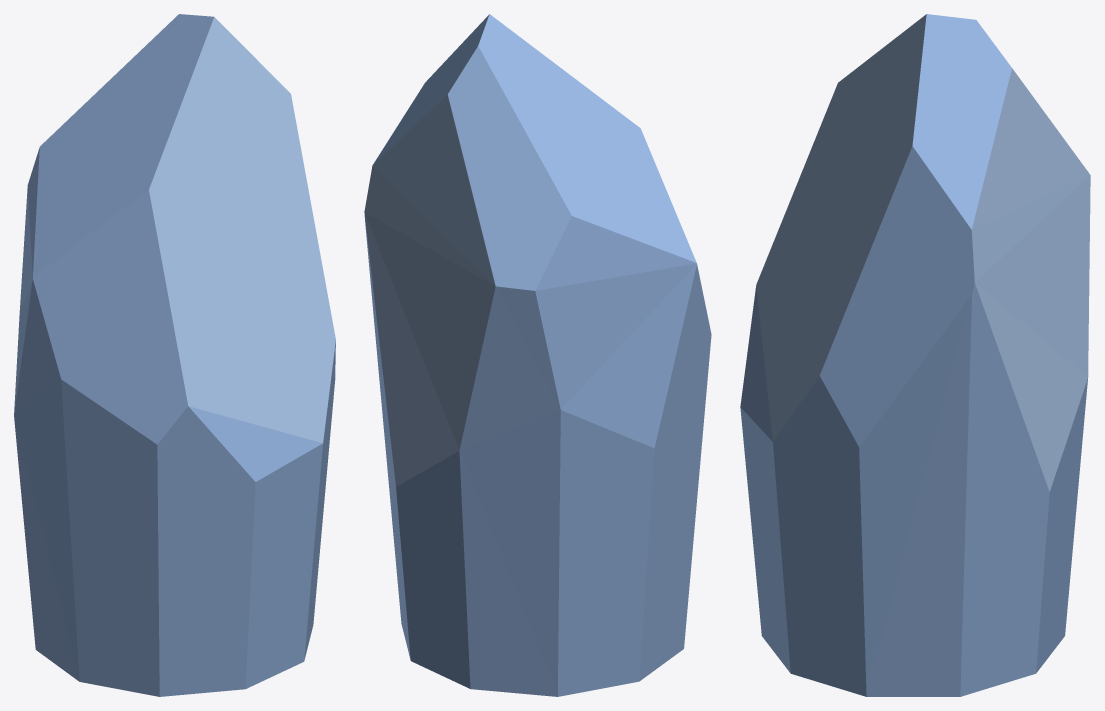
The model's file is crystal_10.fbx.
3 renders of one model, left to right at view 1: azimuth 30°, elevation 25°; view 2: azimuth 150°, elevation 25°; view 3: azimuth 270°, elevation 25°, orthographic. The views are drawn at different scales.
Visible parts, largest first — view 1: crystal_10; view 2: crystal_10; view 3: crystal_10.
Part boxes in pixels (x1,y1,x2,y2): crystal_10: (14, 14, 335, 696); crystal_10: (364, 14, 711, 696); crystal_10: (740, 14, 1090, 696).
Bounding box in the file's own units: 30.32 × 59.65 × 29.31.
